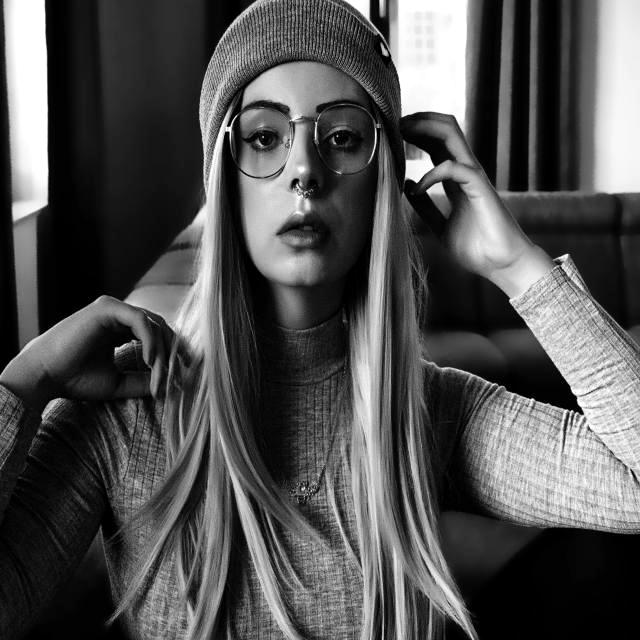no_hard_hat: (199, 0, 401, 144)
person: (0, 0, 640, 640)
